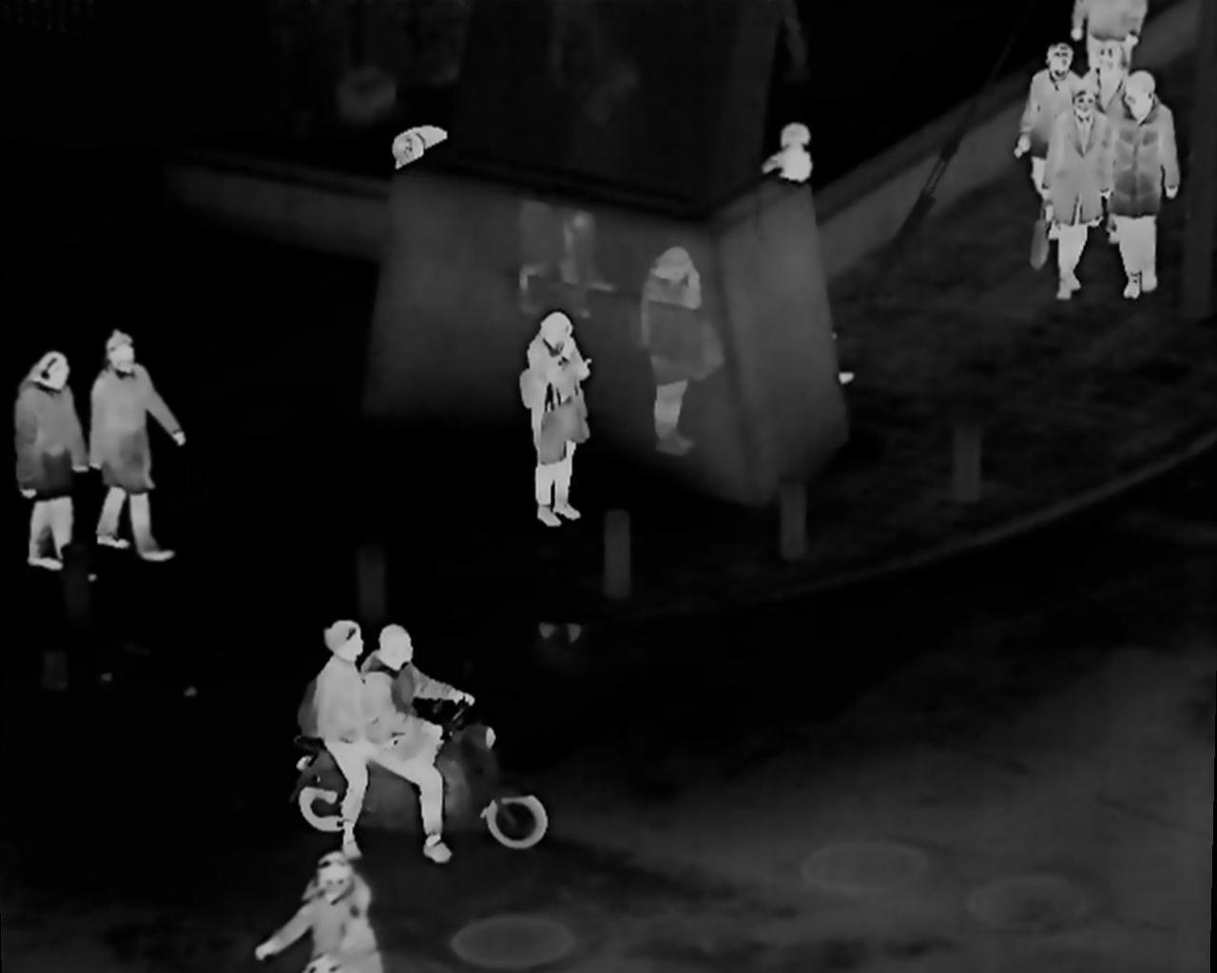person: (77, 336, 176, 558), (365, 609, 450, 828), (1053, 68, 1127, 296), (13, 340, 83, 558), (268, 855, 386, 973), (526, 310, 591, 524), (314, 620, 369, 830), (1115, 68, 1156, 281), (1082, 53, 1142, 127), (1030, 48, 1073, 122)
